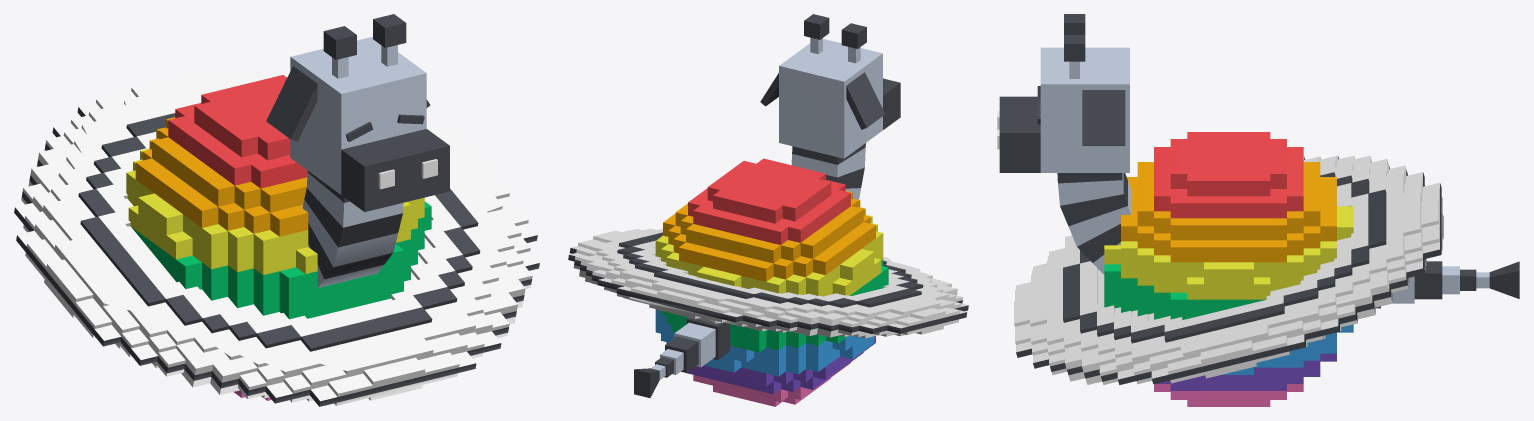
The model's file is La_Vaca_Saturno_SaturnoLa.fbx.
3 renders of one model, left to right at view 1: azimuth 30°, elevation 25°; view 2: azimuth 150°, elevation 25°; view 3: azimuth 270°, elevation 25°, orthographic. The views are drawn at different scales.
Parts seen in each view (by area): view 1: La_Vaca_Saturno_Saturno.002; view 2: La_Vaca_Saturno_Saturno.002; view 3: La_Vaca_Saturno_Saturno.002.
Boxes of the visible parts, <box> form: La_Vaca_Saturno_Saturno.002: <box>14,14,539,406</box>; La_Vaca_Saturno_Saturno.002: <box>568,14,968,406</box>; La_Vaca_Saturno_Saturno.002: <box>997,14,1519,406</box>.
Size of the model in its own units: 2.19 by 1.94 by 2.6.
